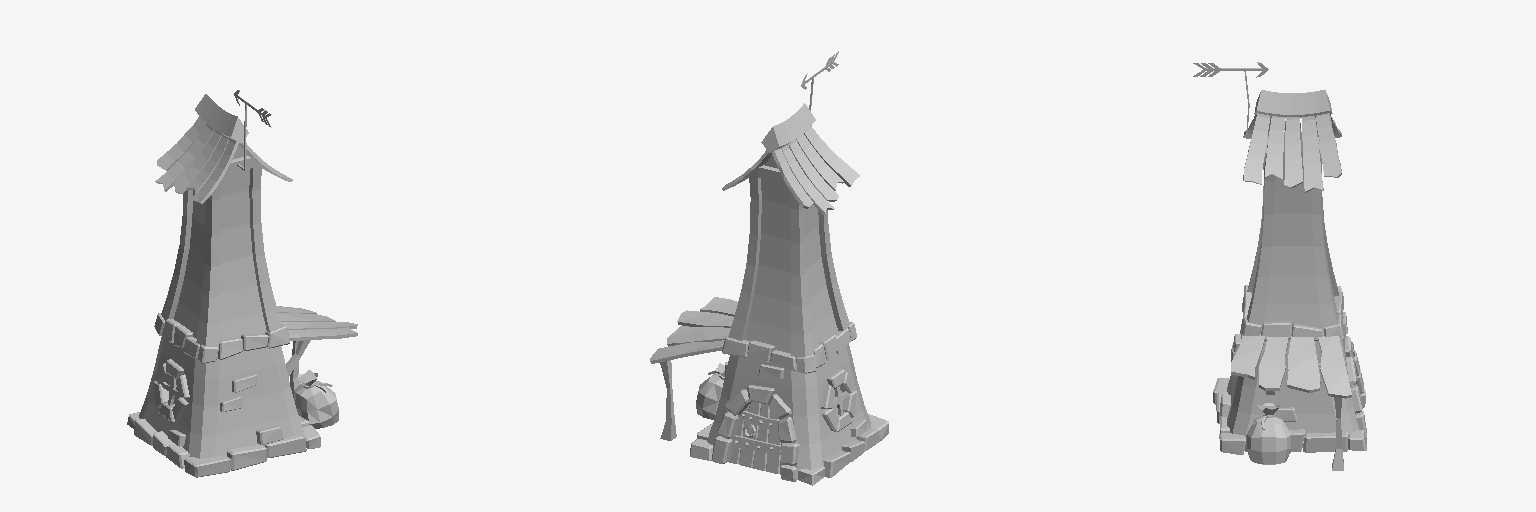
File: wm_body.obj
3 renders of one model, left to right at view 1: azimuth 30°, elevation 25°; view 2: azimuth 150°, elevation 25°; view 3: azimuth 270°, elevation 25°, orthographic.
Visible parts, largest first — view 1: Cube_040; view 2: Cube_040; view 3: Cube_040.
Part boxes in pixels (bbox=[...]): Cube_040: bbox=[127, 90, 357, 477]; Cube_040: bbox=[650, 51, 888, 485]; Cube_040: bbox=[1193, 62, 1366, 470].
Bounding box in the file's own units: 38.66 × 70.78 × 31.01.